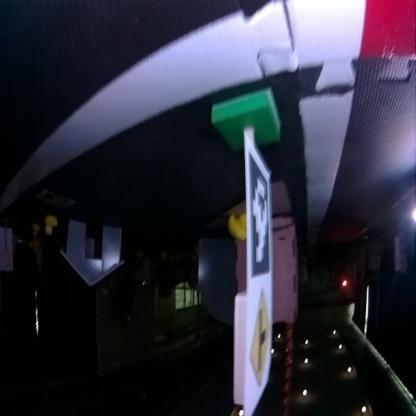Duckie: (226, 216, 247, 240), (44, 219, 55, 236), (31, 223, 40, 238)
Intersection sign: (249, 288, 269, 388)
QR code: (248, 154, 268, 280)
